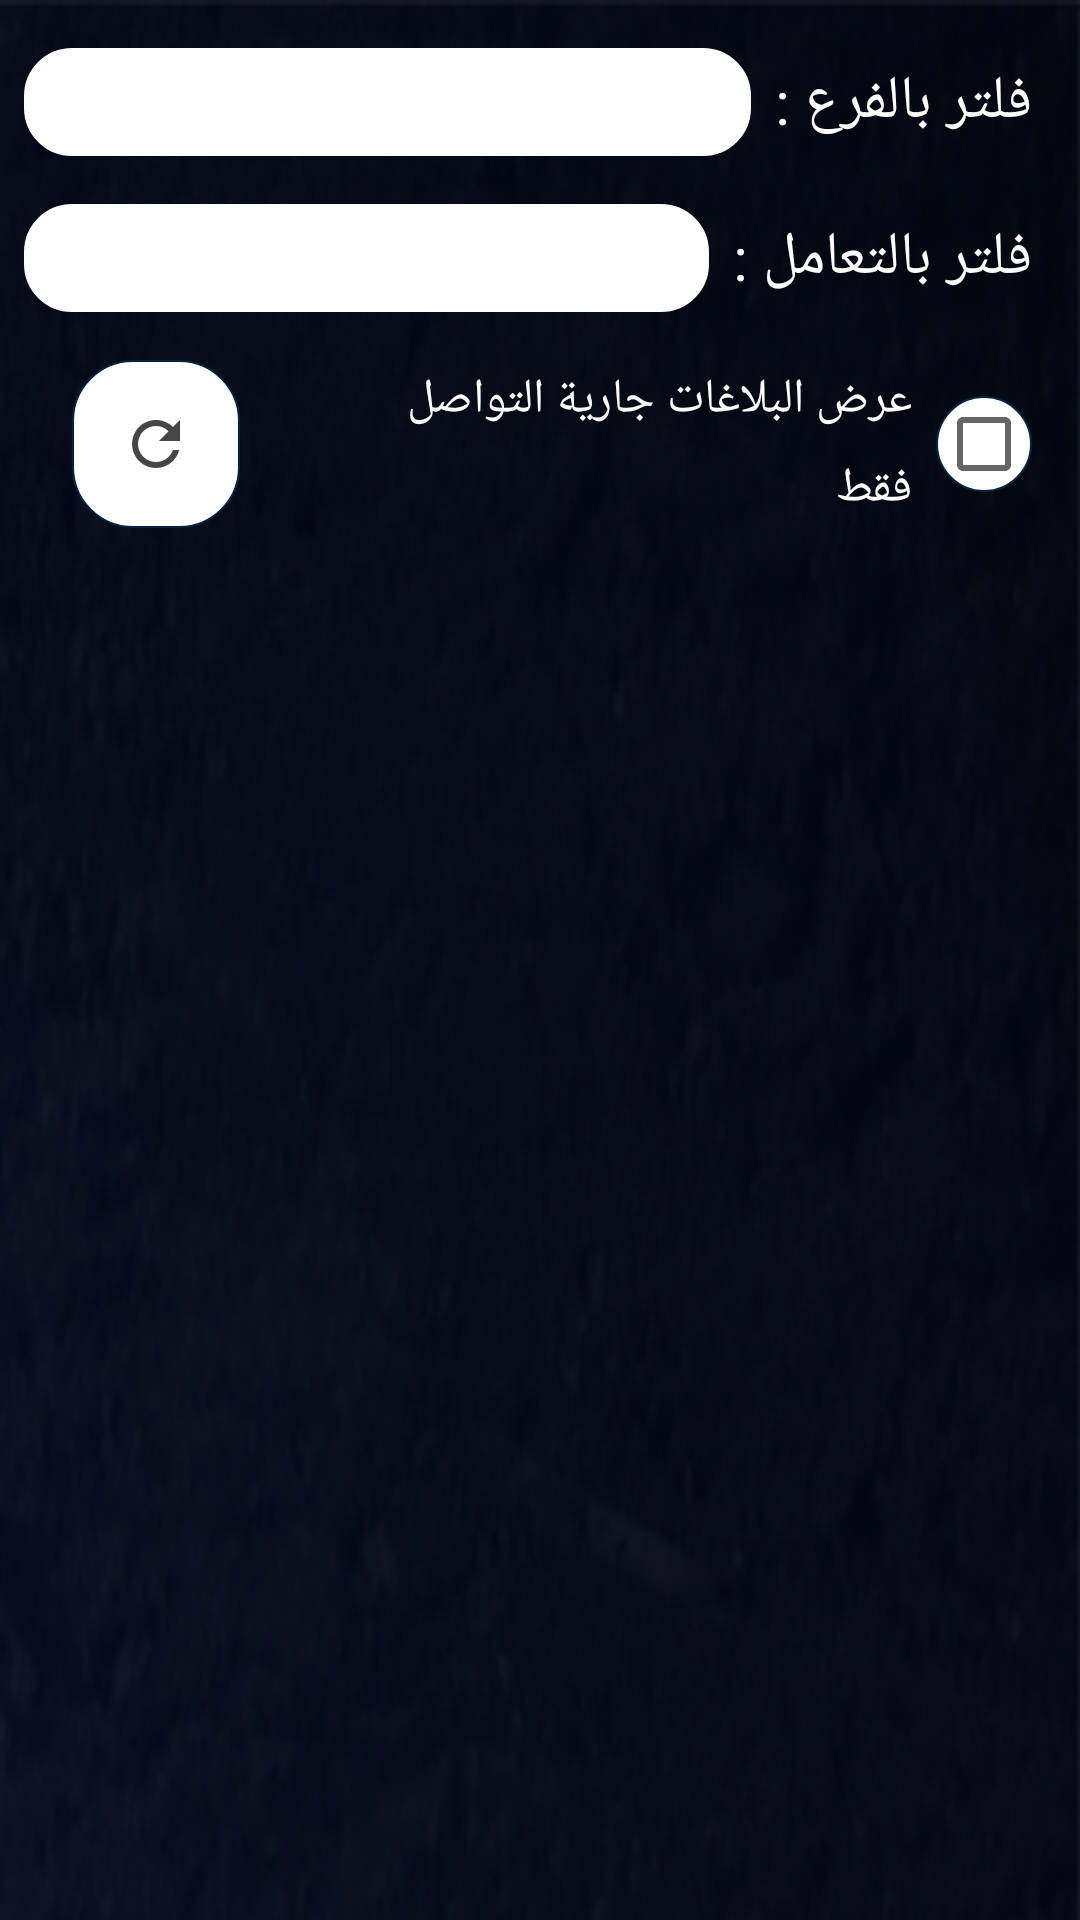

Locate icon controls on the screen. Image size 1080 × 1920, boxes as (x1, y1, x2, y2).
refresh: (72, 360, 240, 528)
